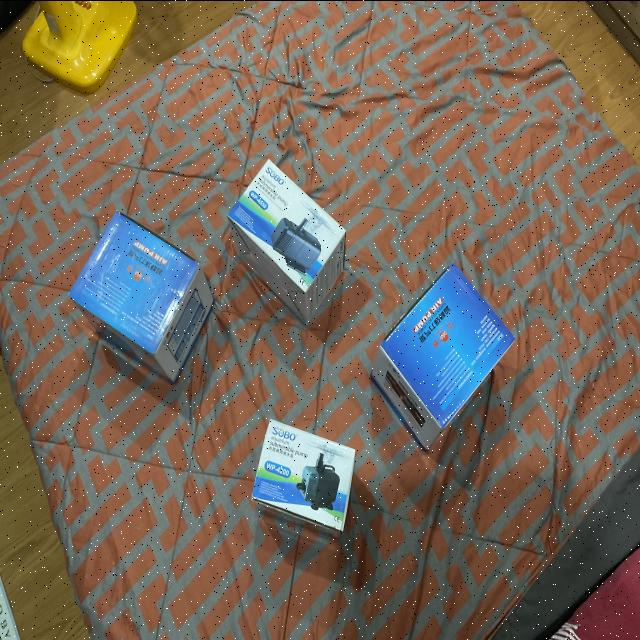SOBO_WP_4200: (222, 149, 352, 328), (243, 408, 370, 542)
YAMANO_LPP_20: (364, 260, 530, 454), (73, 216, 219, 394)
